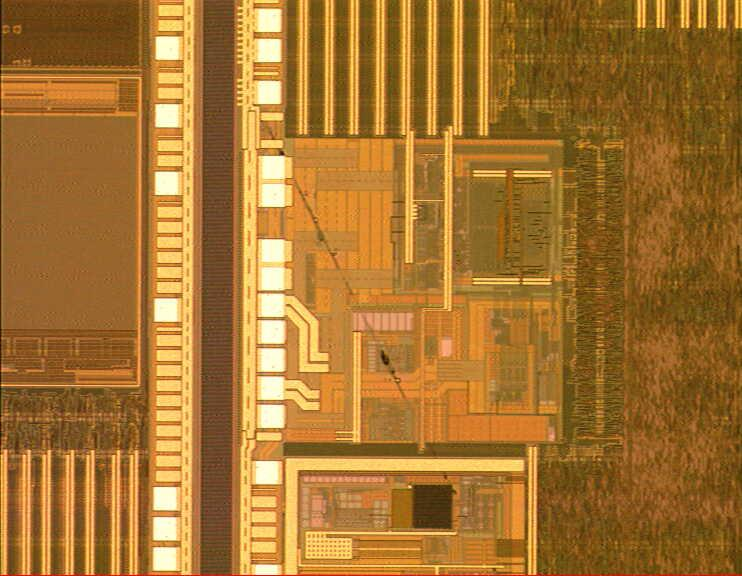SCRATCH: (229, 75, 512, 576)
